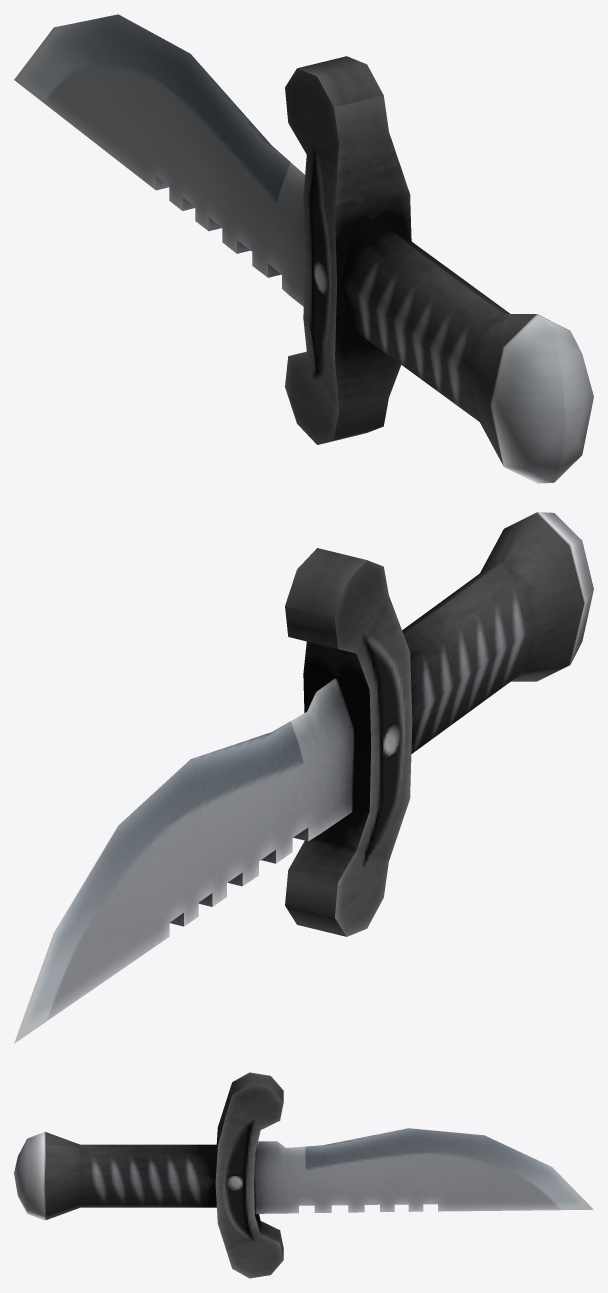
The model's file is knife002.fbx.
3 renders of one model, top to bottom at view 1: azimuth 30°, elevation 25°; view 2: azimuth 150°, elevation 25°; view 3: azimuth 270°, elevation 25°, orthographic. The views are drawn at different scales.
Visible parts, largest first — view 1: knife002; view 2: knife002; view 3: knife002.
Part boxes in pixels (x1,y1,x2,y2): knife002: [14, 14, 593, 483]; knife002: [14, 512, 593, 1043]; knife002: [14, 1072, 593, 1278].
Bounding box in the file's own units: 0.0329 × 0.1229 × 0.334.
